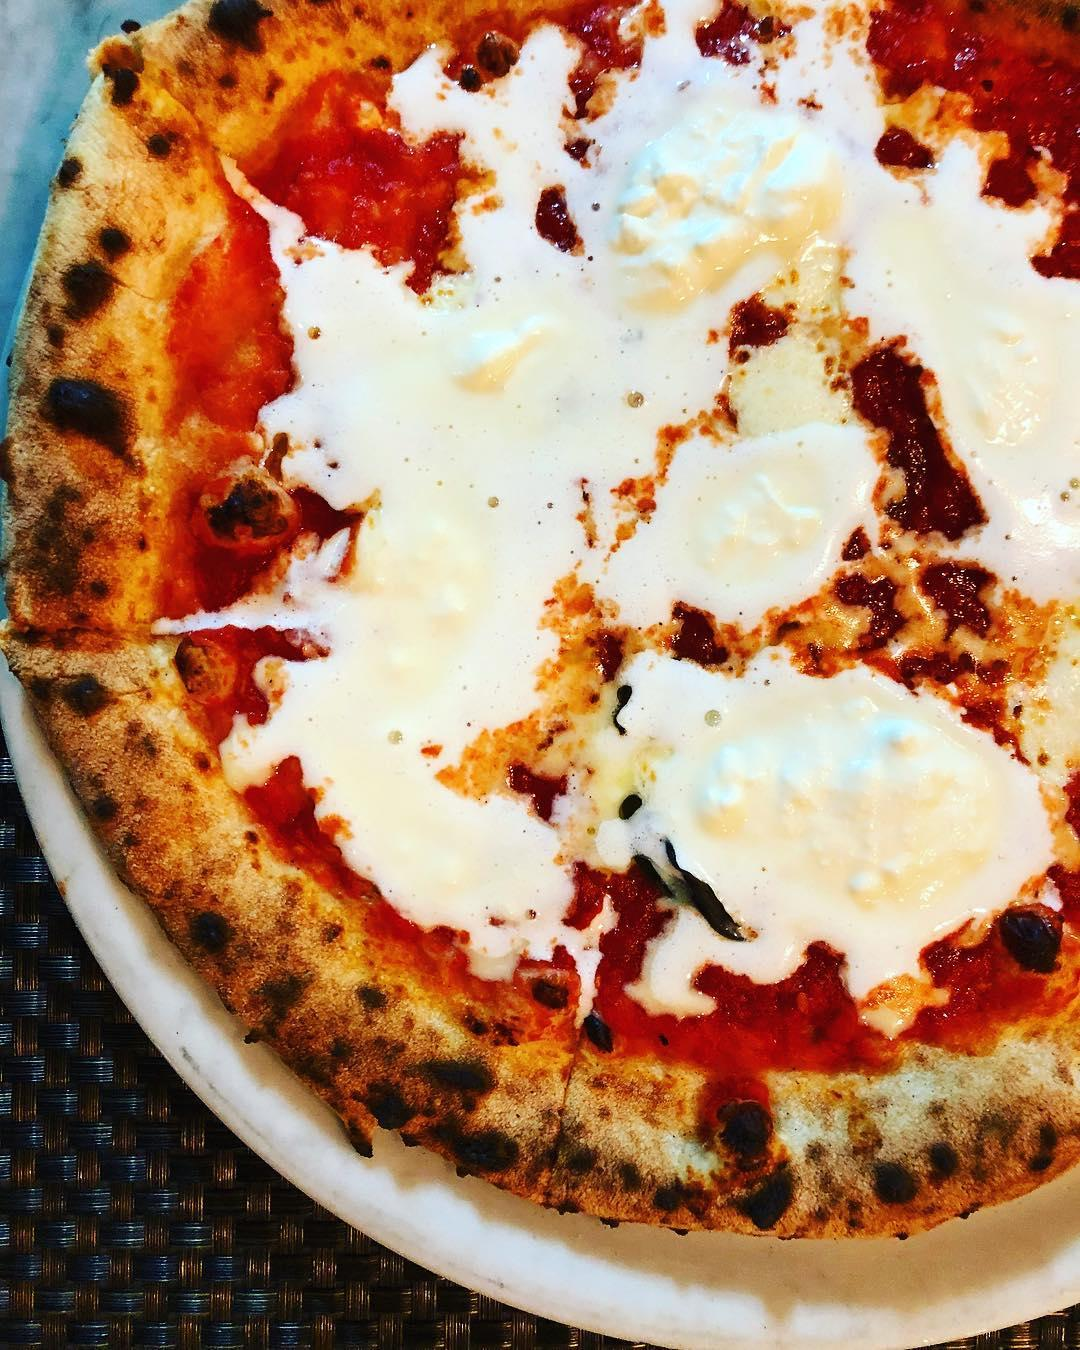Broccoli: (628, 425, 850, 605), (474, 90, 593, 280)
Cheese: (663, 683, 981, 948), (331, 523, 528, 865), (598, 94, 892, 320), (904, 230, 1080, 577), (336, 291, 606, 499)
Pizza: (9, 6, 1080, 1242)
